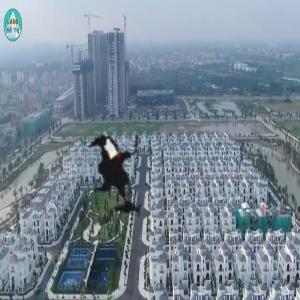drone: (56, 105, 194, 243)
